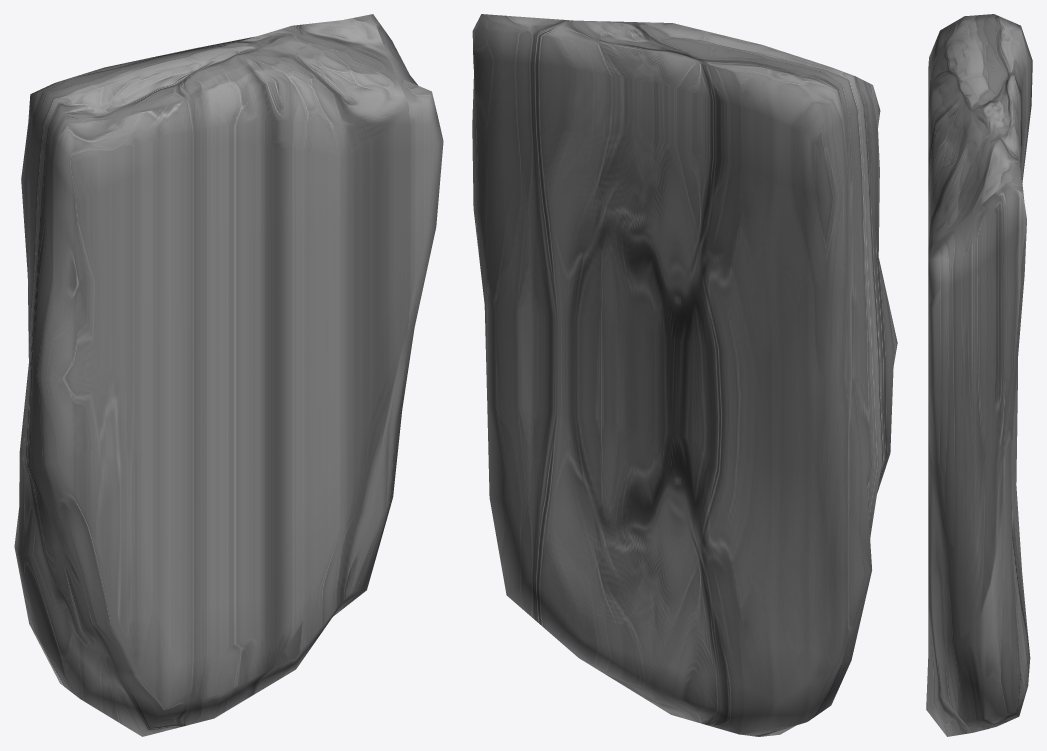
Rendered from Borda_P.FBX.
3 views of the same model, side by side, from view 1: azimuth 30°, elevation 25°; view 2: azimuth 150°, elevation 25°; view 3: azimuth 270°, elevation 25° (orthographic). The views are drawn at different scales.
Parts seen in each view (by area): view 1: Borda_Test; view 2: Borda_Test; view 3: Borda_Test.
Boxes of the visible parts, <box> form: Borda_Test: <box>14,14,443,736</box>; Borda_Test: <box>472,14,897,736</box>; Borda_Test: <box>926,14,1032,736</box>.
Size of the model in its own units: 1.58 by 2.47 by 0.367.
1 material, 1 textured.
